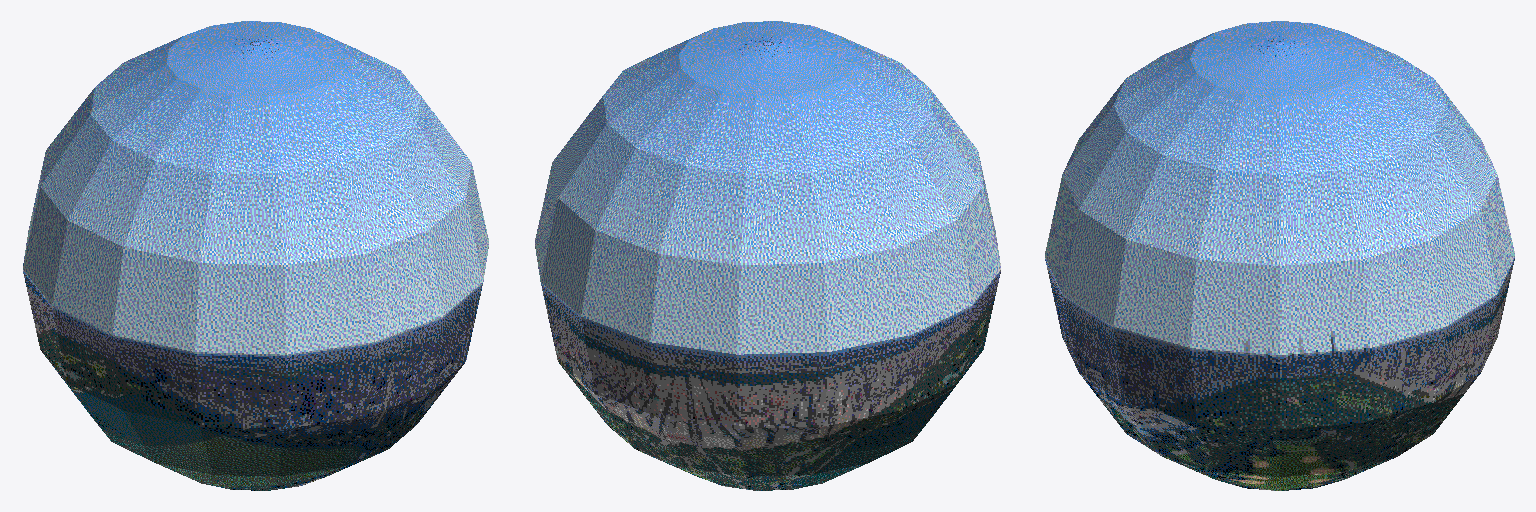
3 views of the same model, side by side, from view 1: azimuth 30°, elevation 25°; view 2: azimuth 150°, elevation 25°; view 3: azimuth 270°, elevation 25° (orthographic).
Parts seen in each view (by area): view 1: Sphere; view 2: Sphere; view 3: Sphere.
Boxes of the visible parts, box(x1,y1,x2,y2) form: Sphere: box(23, 21, 488, 490); Sphere: box(535, 21, 1000, 490); Sphere: box(1045, 21, 1514, 490).
Size of the model in its own units: 2 by 2 by 2.
Materials: 1 (1 with a texture image).